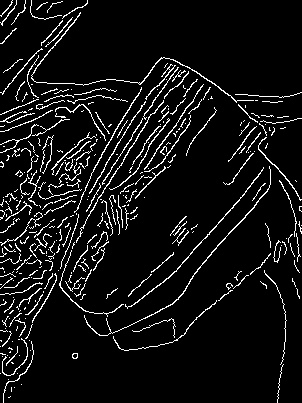cucumber: (56, 55, 271, 308)
